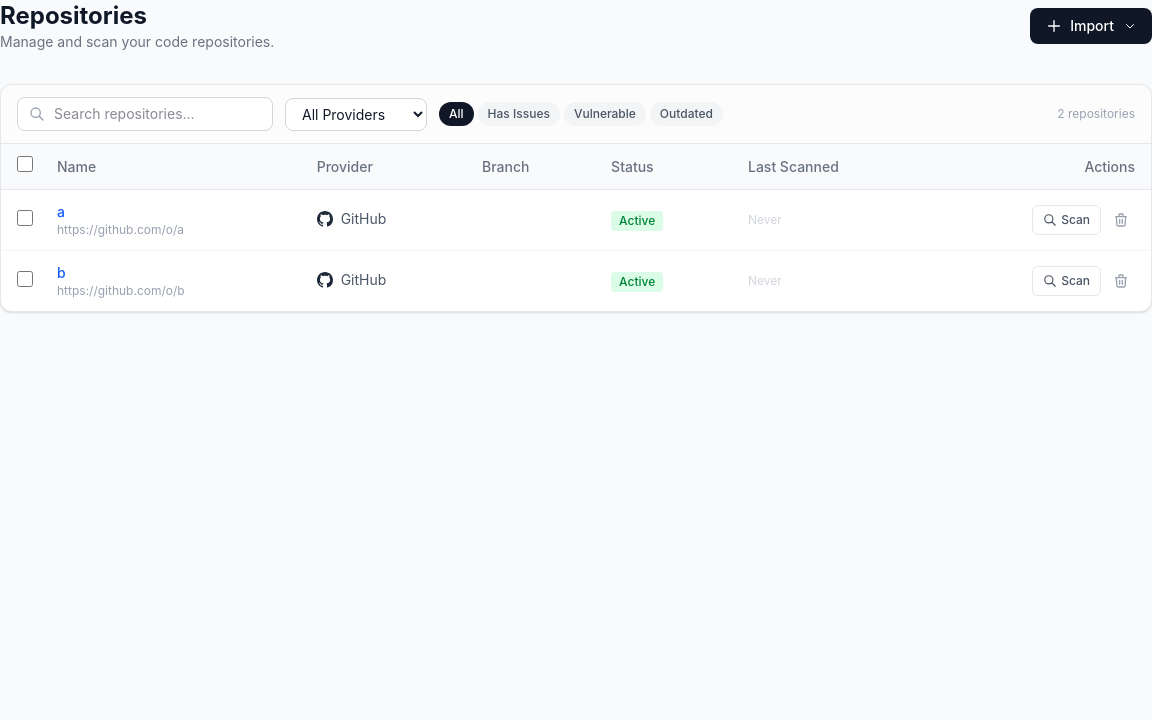
it: Repositories › hides the bulk actions when the list fails to refresh
The width and height of the screenshot is (1152, 720).
Click the checkbox named "Select a" at (25, 218), box [17,210,33,226]
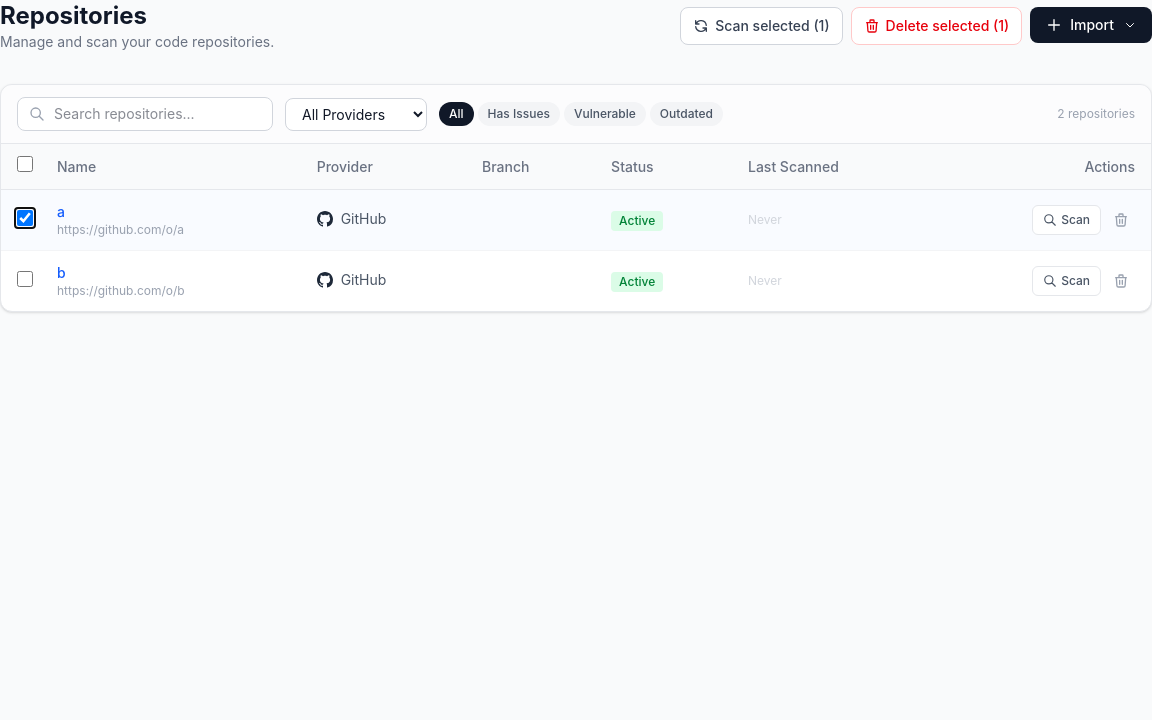
Check: the button "Delete selected (1)" is shown, box [851,7,1022,45]
Click the button named "Delete" in the row of "https://github.com/o/b" at (1121, 281), box [1107,266,1135,296]
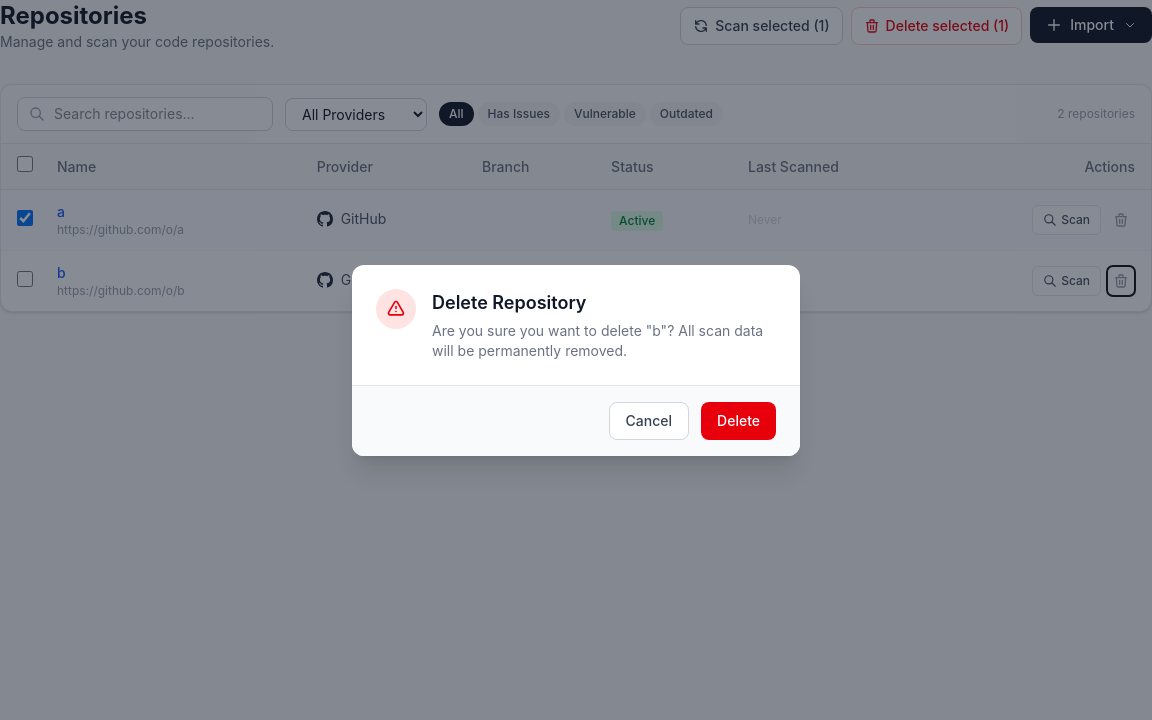
Click the button "Delete" at (739, 420), box [701,402,776,440]
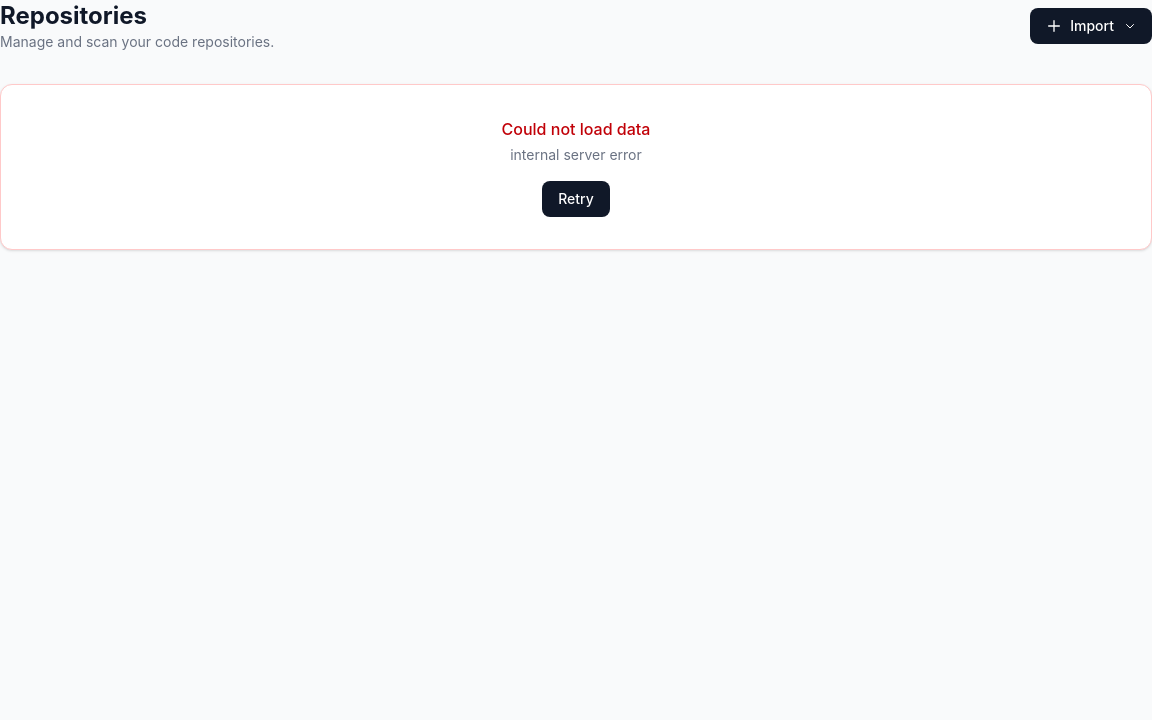
Check: the message shows "internal server error", box [510,146,642,163]
Check: the button "Delete selected" is gone
Check: the button "Scan selected" is gone
